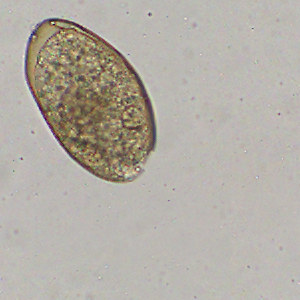Fasciola_hepatica_egg: (24, 17, 158, 186)
